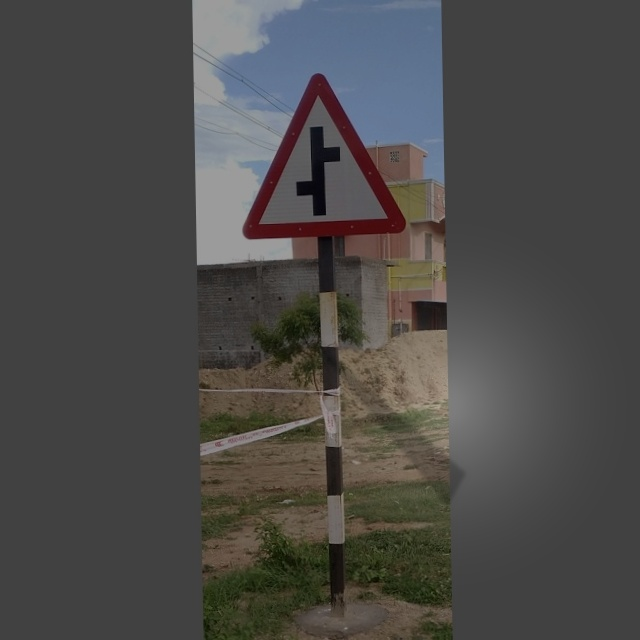Staggered_Intersection: (240, 62, 411, 247)
